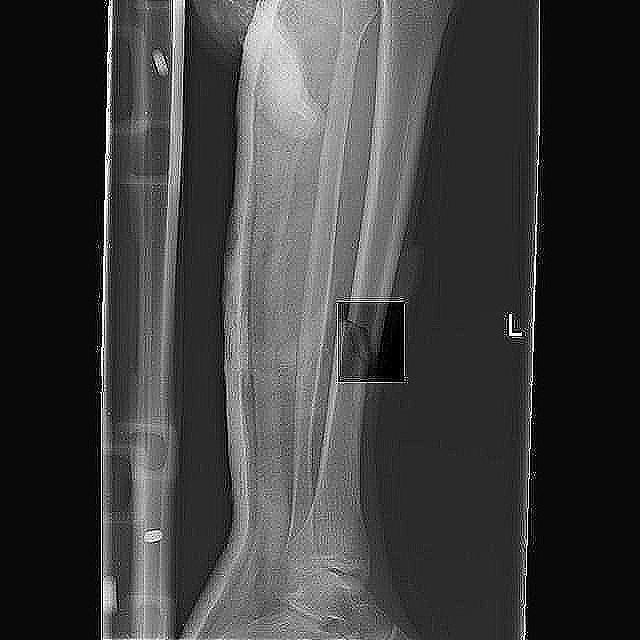bone: (338, 302, 391, 382)
